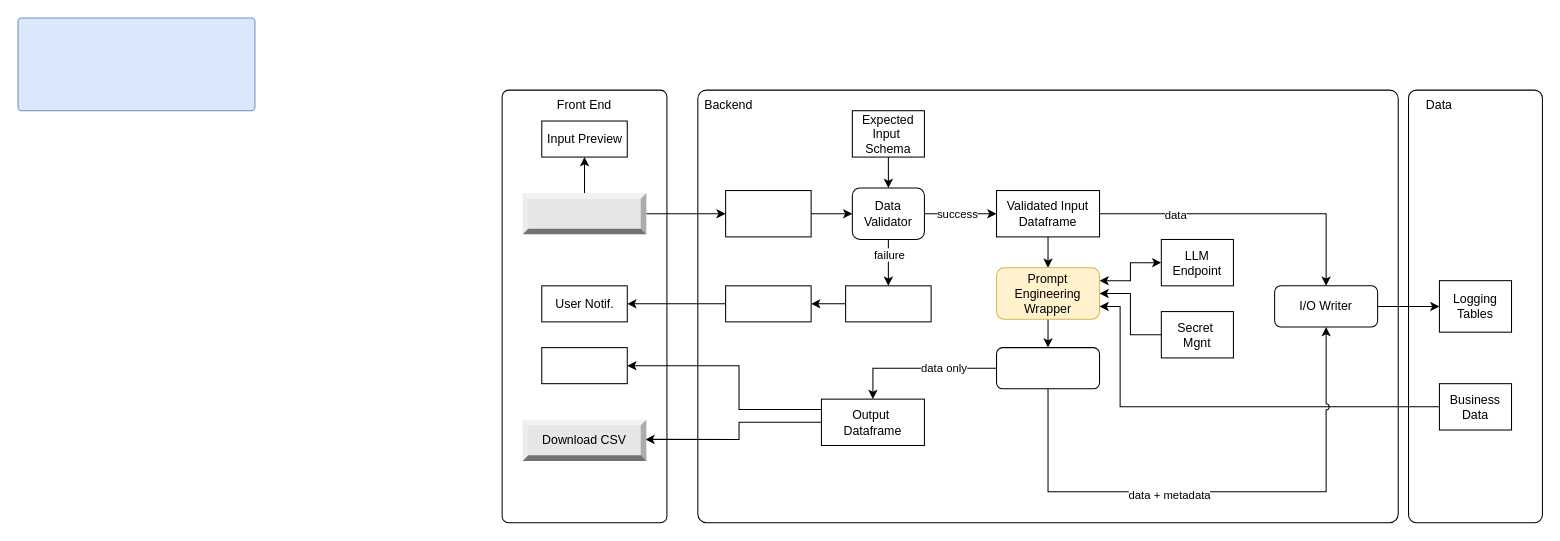
Image size: 1560x541. Some labels were removed from this diagram. The shapes that lost their labels are listed below. From the top down, each one's centre as x and y in pixels, then its label:
At [136,64]: "Prompt Engineering Use Case".
At [584,213]: "Upload CSV".
At [768,213]: "Raw Input Dataframe".
At [768,303]: "Error and retry message".
At [888,303]: "Exception".
At [584,365]: "Output Preview".
At [1047,368]: "LLM Output Parser".
